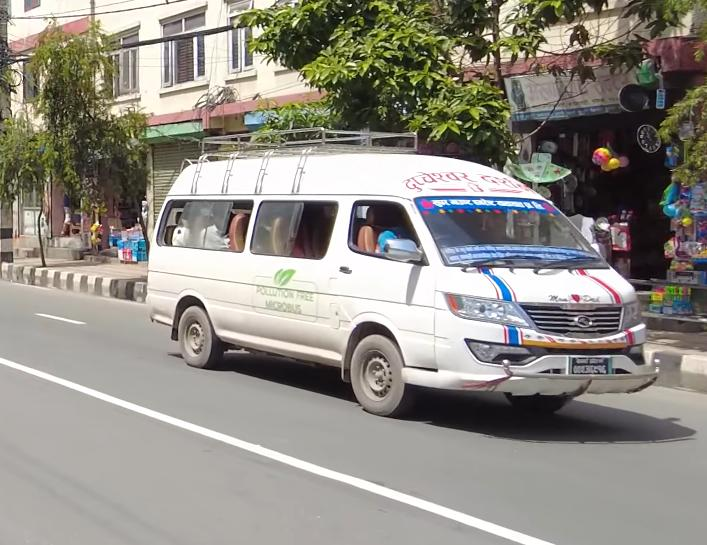micro_bus: (138, 128, 663, 419)
